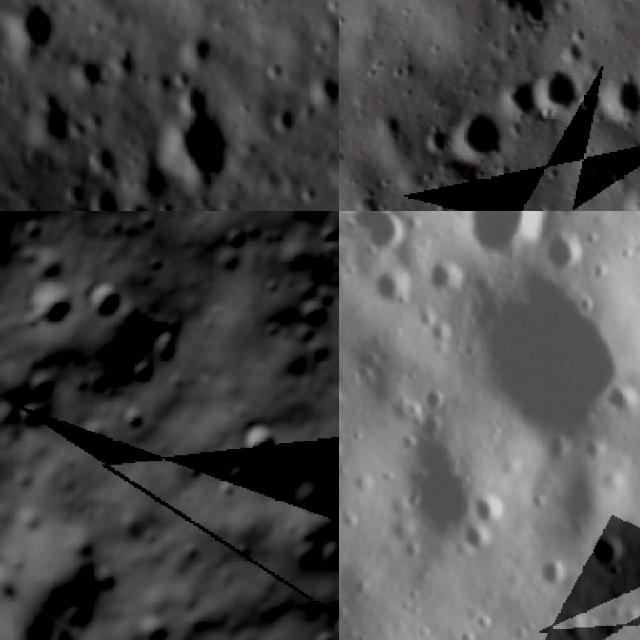crater: (444, 256, 640, 473), (339, 369, 510, 603), (436, 211, 565, 272), (154, 92, 233, 186), (16, 270, 90, 347), (532, 213, 601, 280), (277, 456, 339, 530), (20, 76, 78, 155), (229, 408, 297, 475), (522, 52, 582, 118), (446, 112, 512, 169), (412, 246, 472, 306), (364, 254, 424, 313), (4, 388, 65, 446), (356, 211, 420, 266), (77, 272, 135, 332), (286, 278, 339, 343), (583, 520, 640, 580), (208, 446, 266, 503), (5, 0, 62, 55), (530, 544, 584, 602), (599, 69, 640, 131), (449, 516, 498, 565), (490, 72, 538, 122), (598, 371, 640, 423), (466, 486, 513, 532), (179, 30, 230, 71), (412, 371, 456, 416), (104, 35, 143, 82), (84, 133, 120, 175), (0, 559, 34, 602), (266, 100, 301, 137), (311, 66, 339, 107), (87, 182, 119, 211), (123, 195, 157, 211)
